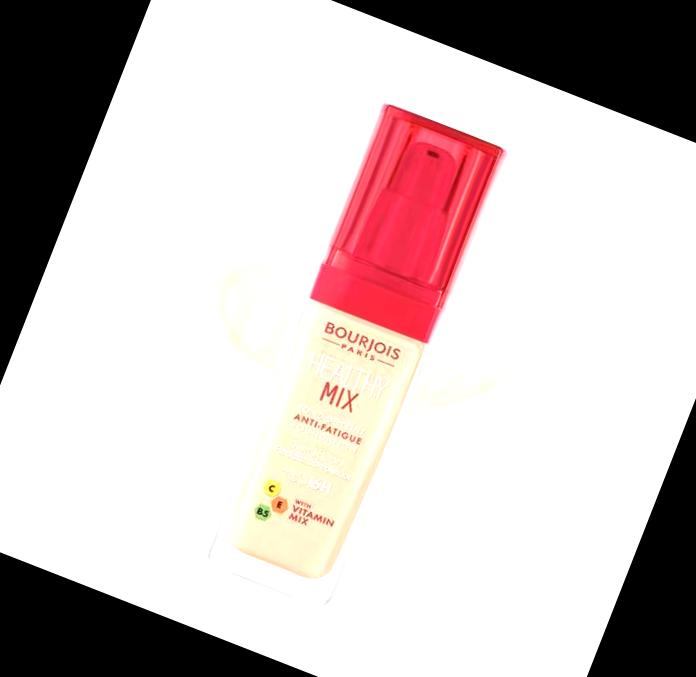cosmetic: (194, 100, 511, 622)
